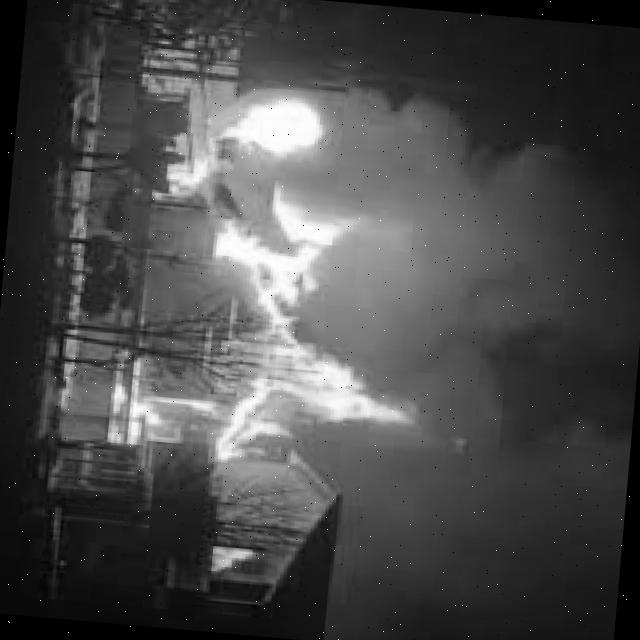explosion: (118, 69, 460, 456)
